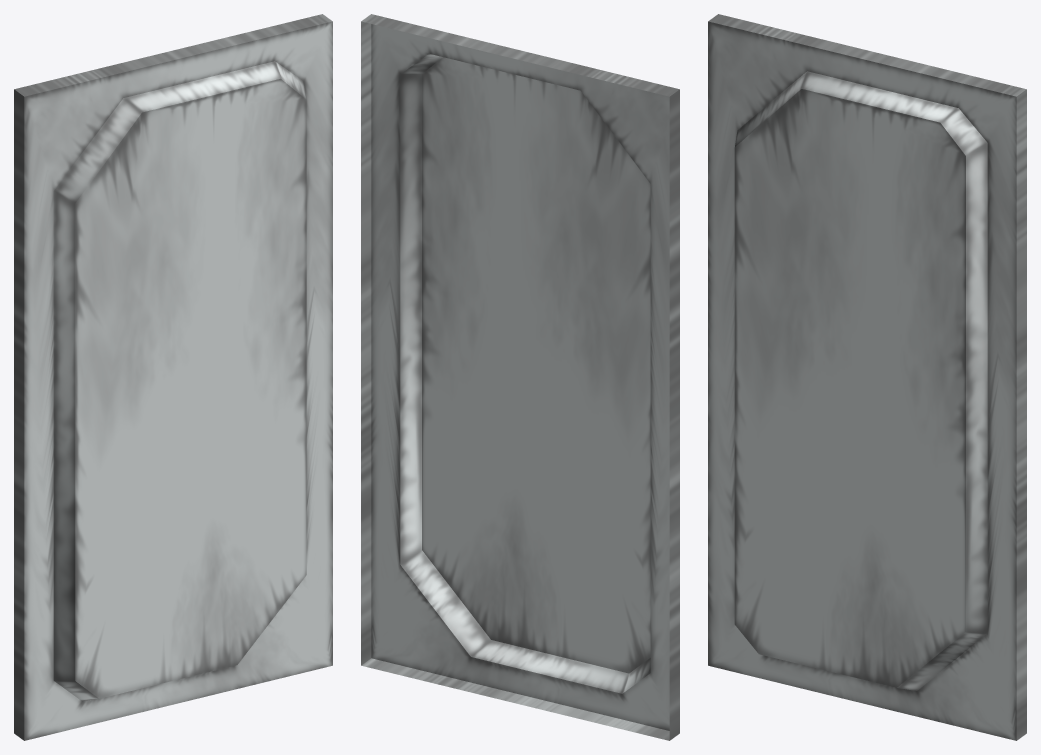
Rendered from wall1.fbx.
The picture shows the model from 3 angles, left to right: view 1: azimuth 30°, elevation 25°; view 2: azimuth 150°, elevation 25°; view 3: azimuth 330°, elevation 25°; orthographic projection.
Parts seen in each view (by area): view 1: wall1; view 2: wall1; view 3: wall1.
Part boxes in pixels (left/top/right/bottom): wall1: left=14, top=14, right=332, bottom=740; wall1: left=361, top=14, right=679, bottom=740; wall1: left=708, top=14, right=1026, bottom=740.
Bounding box in the file's own units: 84.46 × 169 × 10.59.
